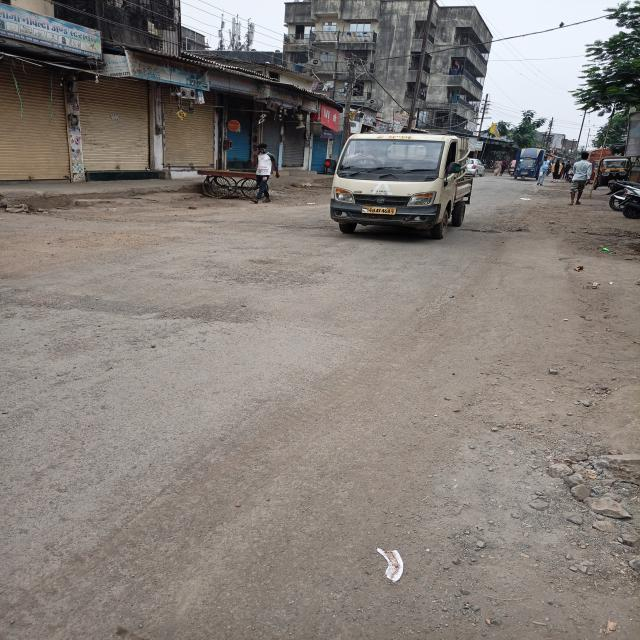Auto: (513, 148, 545, 179), (597, 158, 630, 186)
Car: (330, 131, 473, 239)
